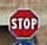stop: (6, 7, 39, 39)
